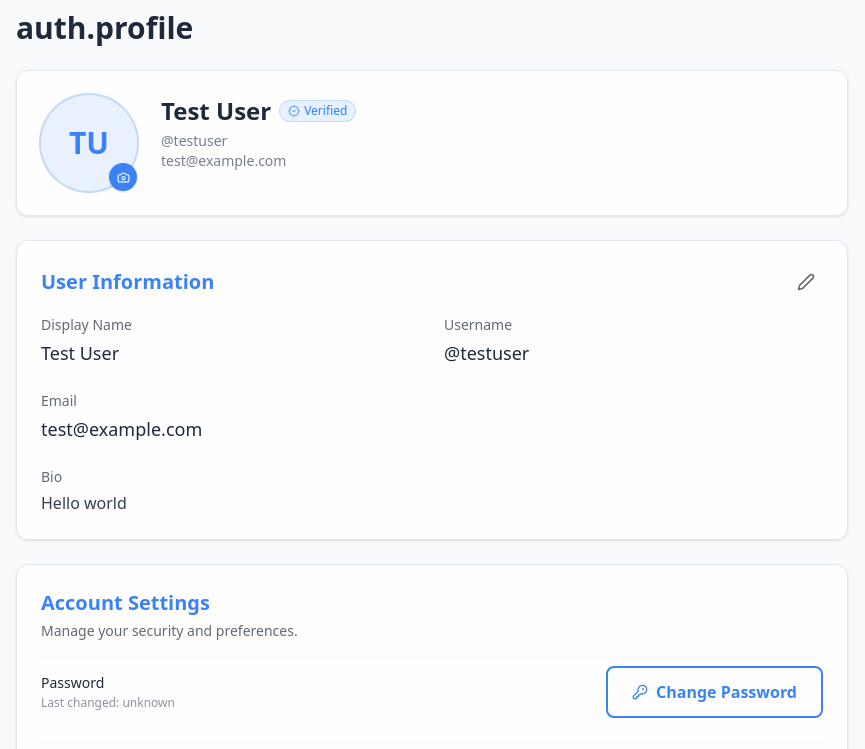
Test case: Profile (7.x) › 7.3 — clicking Cancel closes edit form without changes
The width and height of the screenshot is (865, 749).
What coordinates should you click on to do the following:
click the button titled "Edit Profile"
I would click on:
 (806, 282)
Its box is [789,265,823,299].
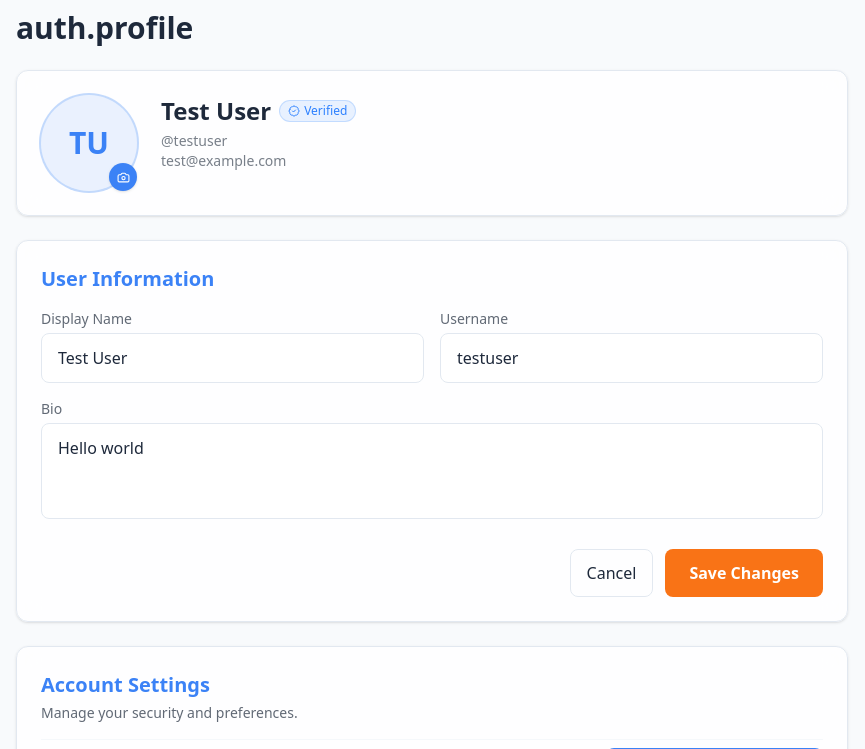
What coordinates should you click on to do the following:
click the button "Cancel"
I would click on:
 (612, 573)
Its box is [570,549,653,597].
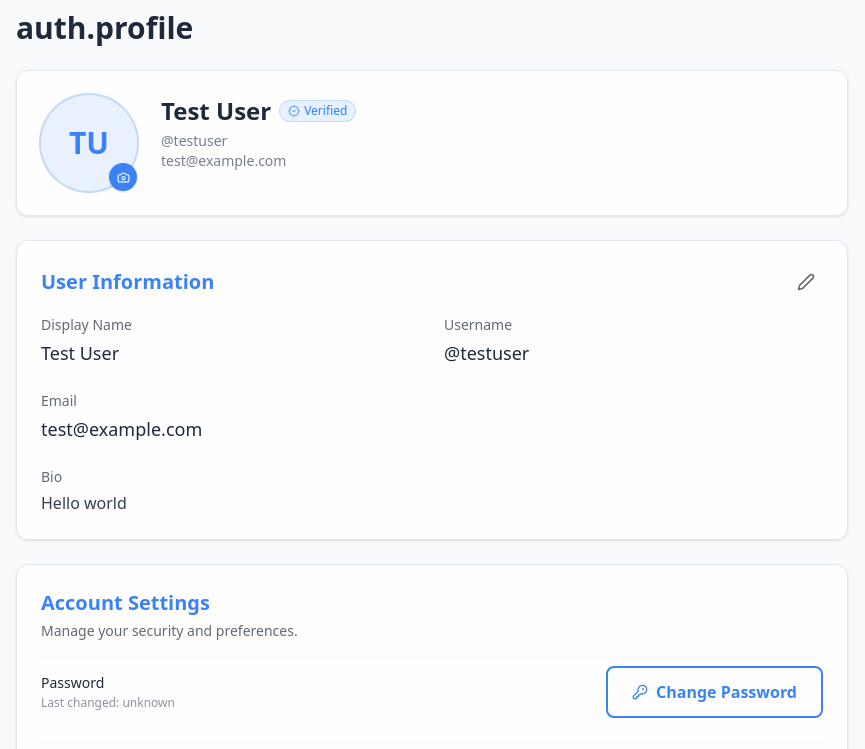
Expected: the field with placeholder "johndoe" is gone
